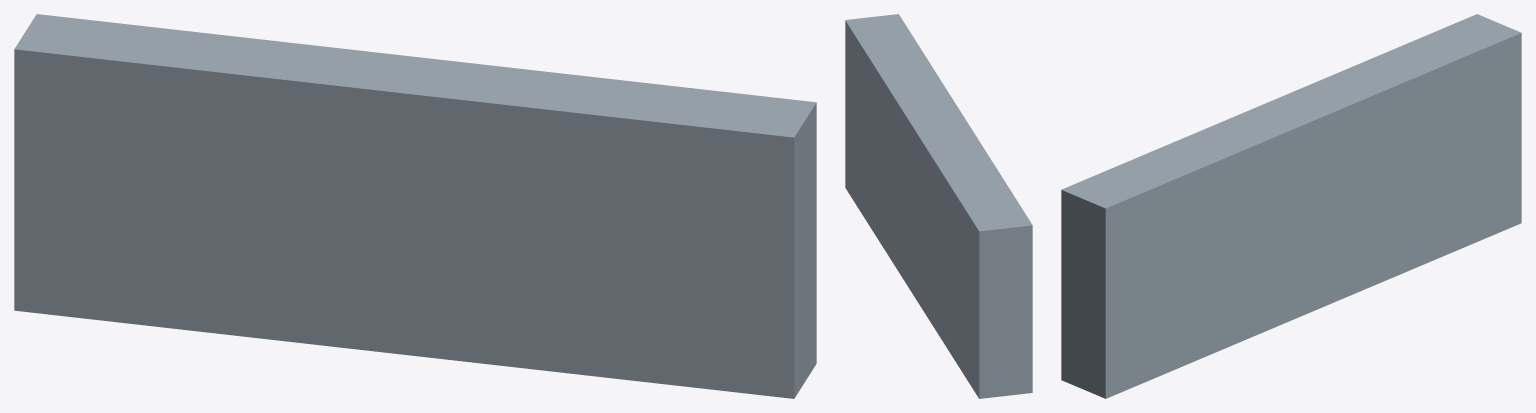
Rendered from SM_Wall_Angle_low.fbx.
The picture shows the model from 3 angles, left to right: view 1: azimuth 30°, elevation 25°; view 2: azimuth 150°, elevation 25°; view 3: azimuth 270°, elevation 25°; orthographic projection. The views are drawn at different scales.
Parts seen in each view (by area): view 1: SM_Wall_Angle_low; view 2: SM_Wall_Angle_low; view 3: SM_Wall_Angle_low.
Part boxes in pixels (<box>): SM_Wall_Angle_low: <box>14,14,816,398</box>; SM_Wall_Angle_low: <box>845,14,1032,398</box>; SM_Wall_Angle_low: <box>1061,14,1521,398</box>.
Size of the model in its own units: 219 by 100 by 219.
